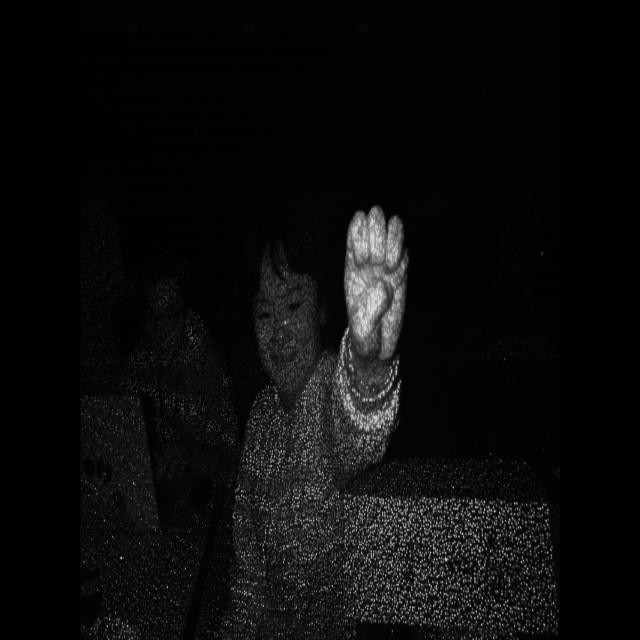E: (318, 184, 459, 399)
